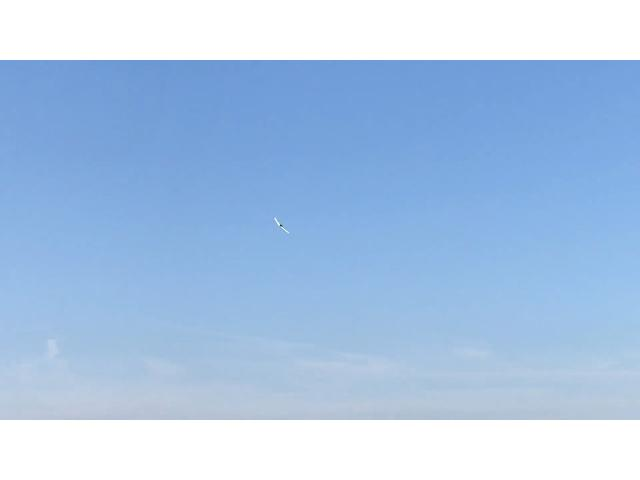Anti-Drone: (256, 208, 300, 238)
